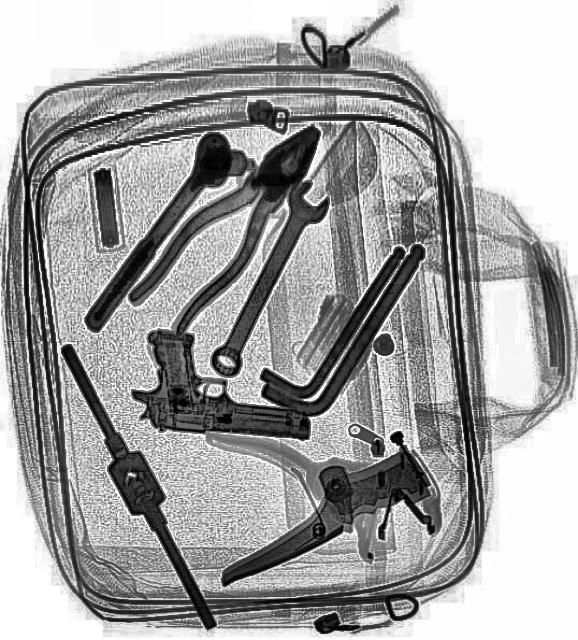Gun: (128, 326, 316, 440)
Pliers: (124, 101, 342, 342)
Wrench: (200, 172, 334, 380)
